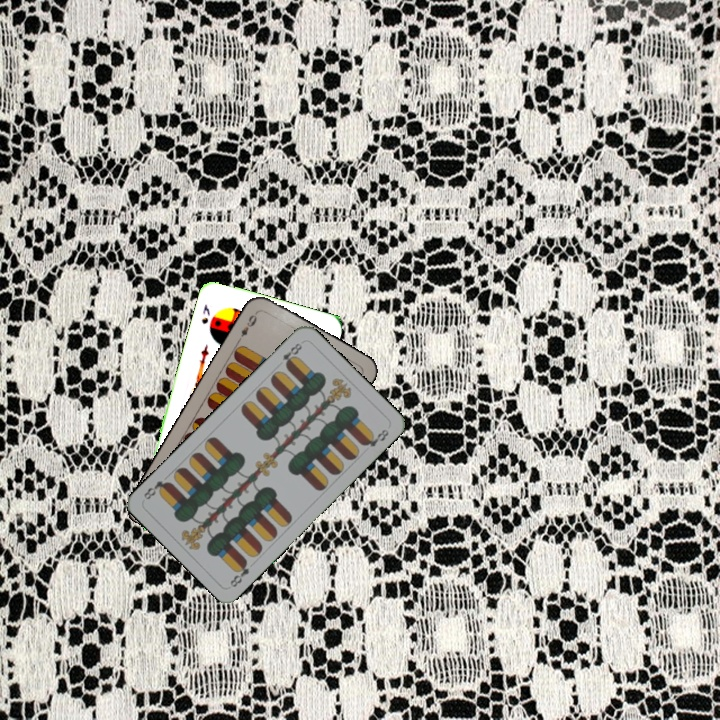E8: (226, 556, 252, 590), (278, 338, 305, 370)
E9: (234, 308, 260, 344)
SK: (197, 300, 212, 327)
